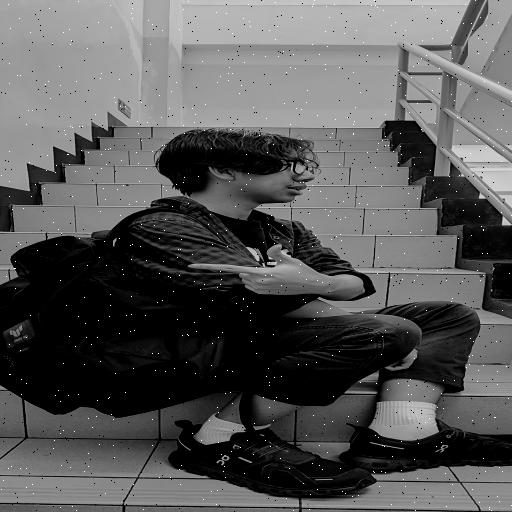next: (168, 239, 379, 309)
